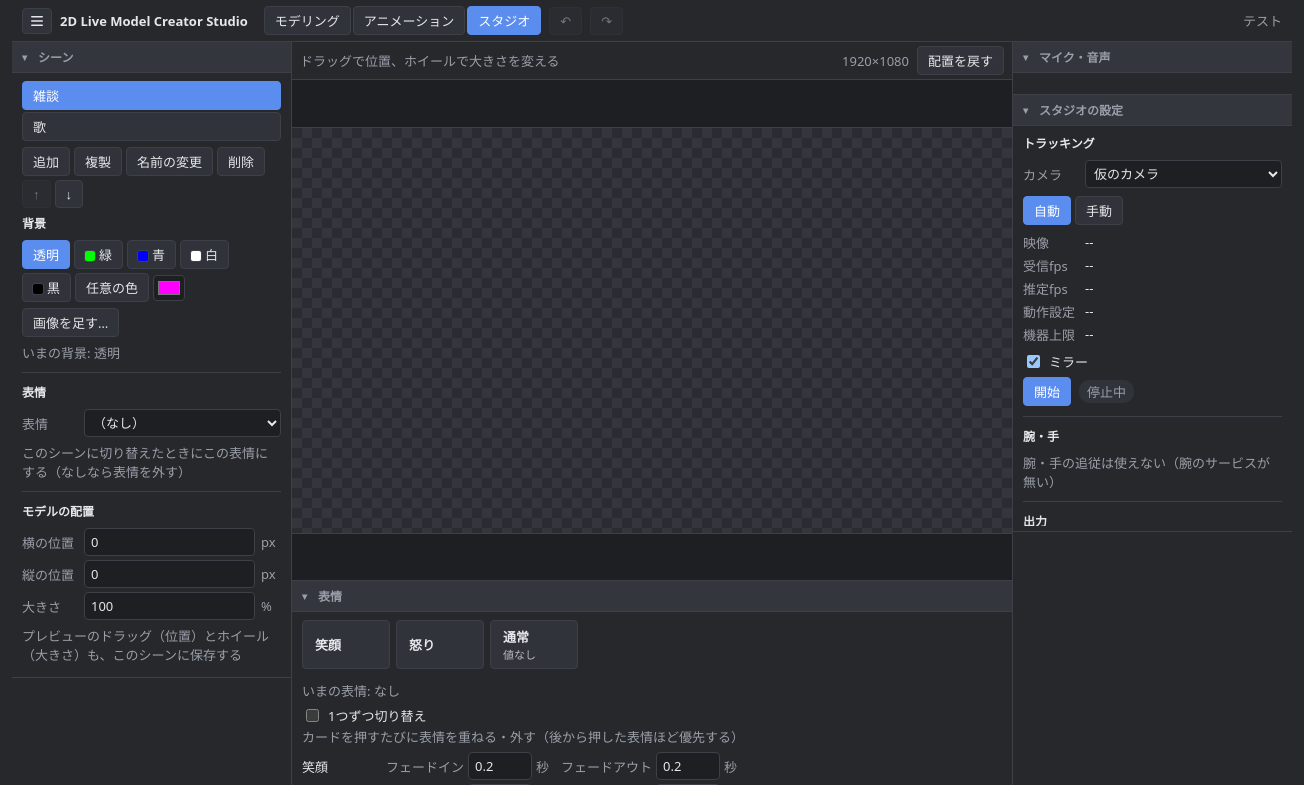
Test case: スタジオの「表情」パネル › カードを押すたびに表情を重ね、もう一度押すと外す。適用中のカードに順番の印を出す（仮実装でも動く）
What coordinates should you click on to do the following:
click the button "笑顔"
I would click on:
 (346, 644)
Its box is [302,620,390,669].
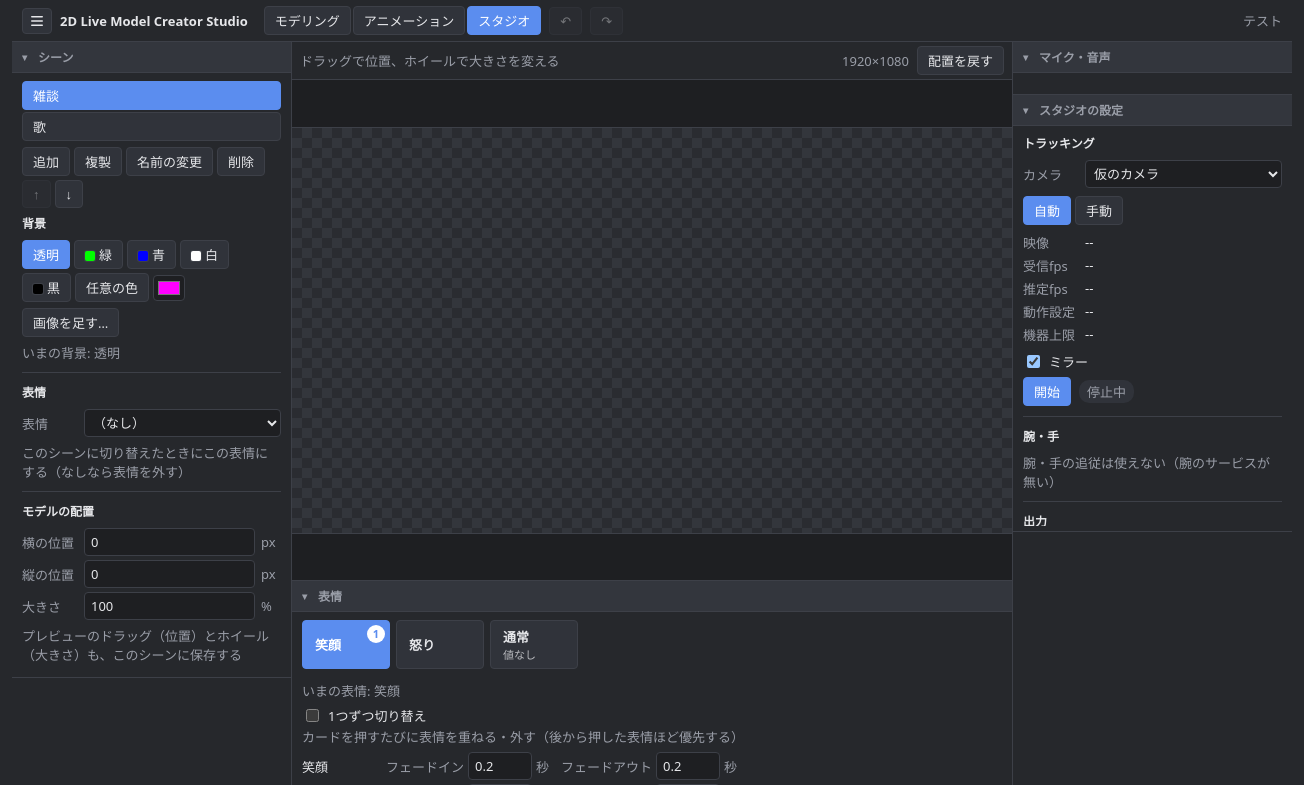
Expected: the text labelled "いまの表情" reads "いまの表情: 笑顔", [302,682,400,700]
What coordinates should you click on to do the following:
click the button "怒り"
I would click on:
 (440, 644)
Its box is [396,620,484,669].
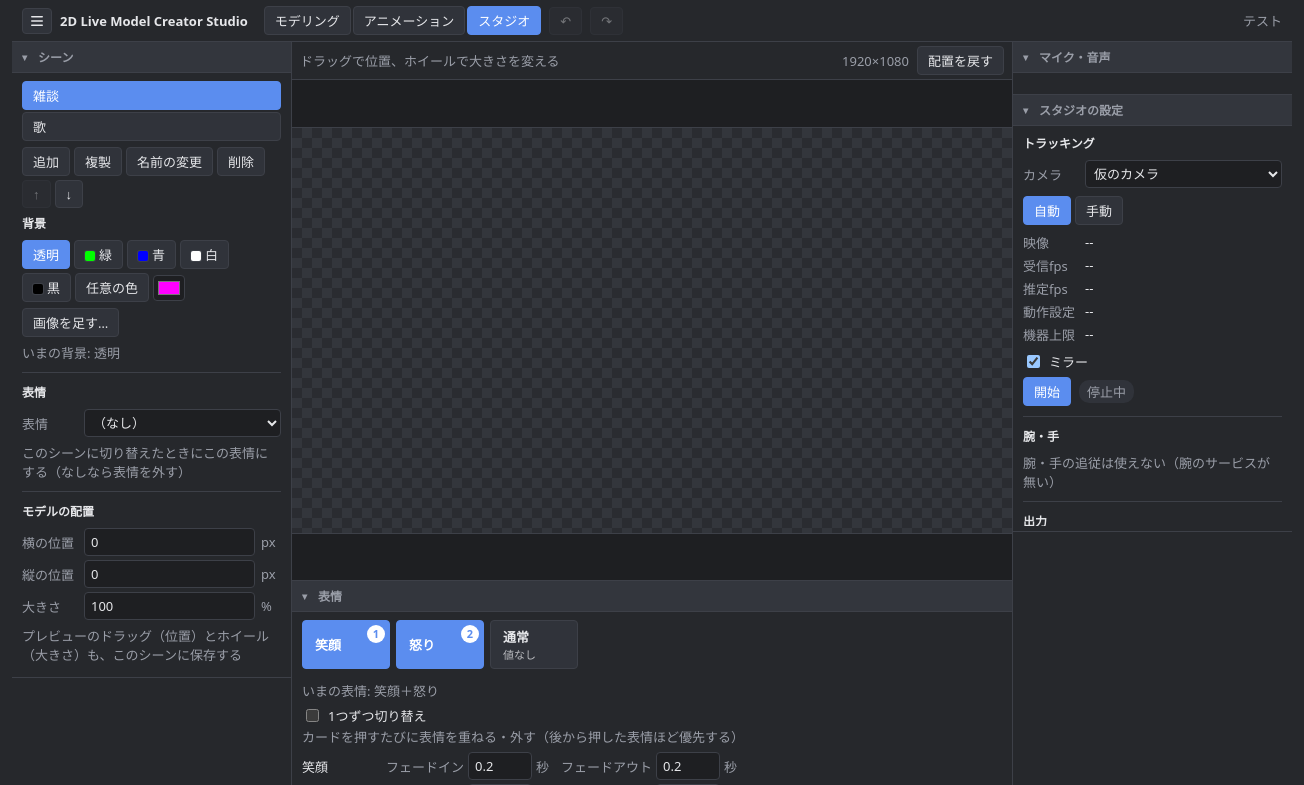
Expected: the text labelled "いまの表情" reads "いまの表情: 笑顔＋怒り", [302,682,439,700]
What coordinates should you click on to do the following:
click the button "笑顔 1"
I would click on:
 (346, 644)
Its box is [302,620,390,669].
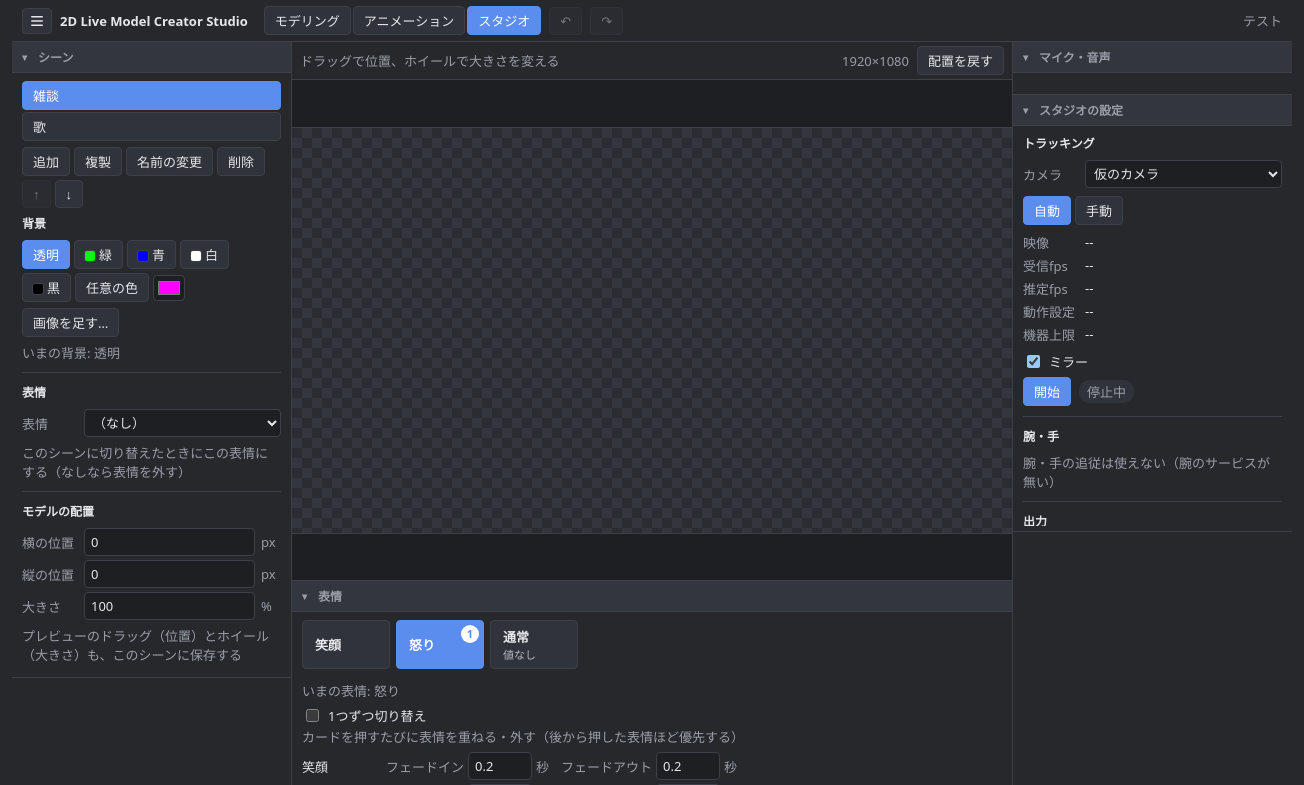
What coordinates should you click on to do the following:
click the button "怒り 1"
I would click on:
 (440, 644)
Its box is [396,620,484,669].
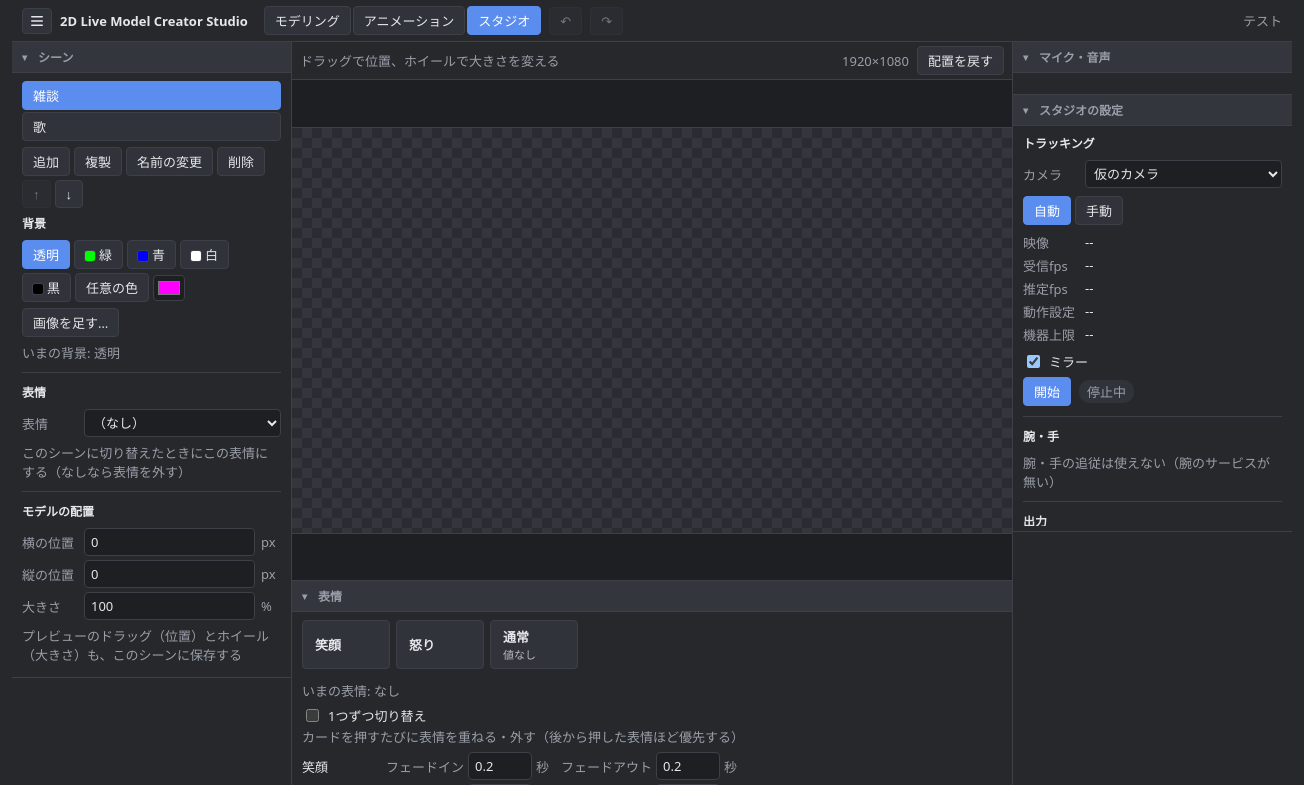
Expected: the text with class "sexpr-card-order" is gone
Expected: the text labelled "いまの表情" reads "いまの表情: なし", [302,682,400,700]
